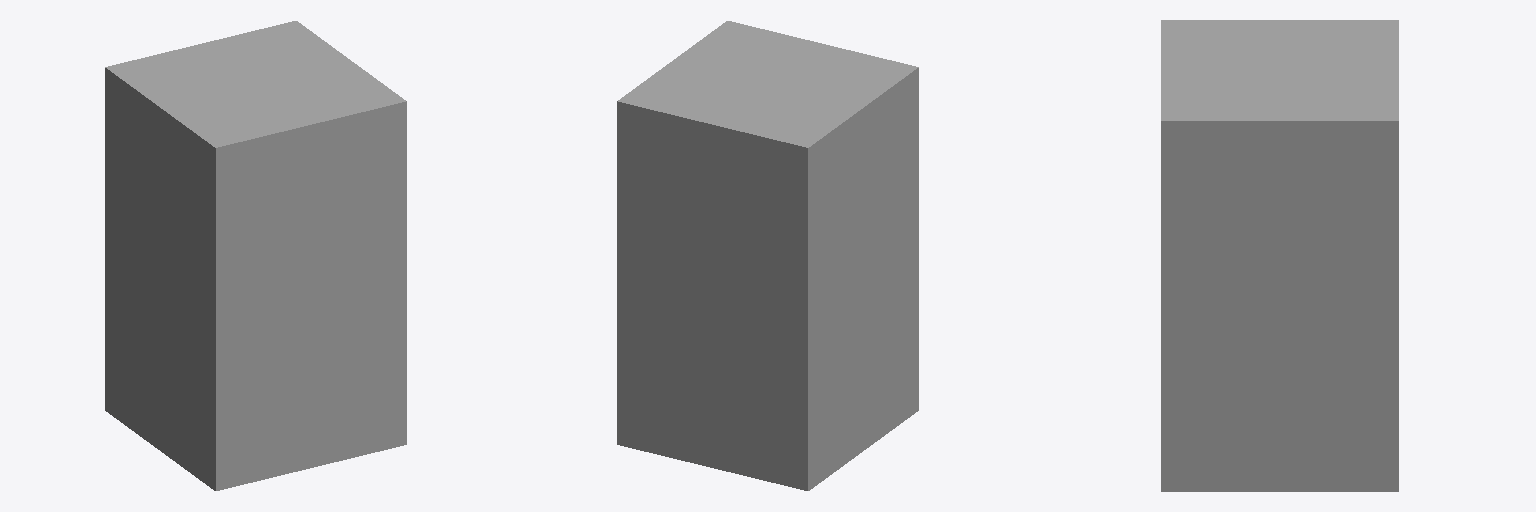
robot.urdf — flask:
<?xml version="1.0"?>
<!-- Generated by make_models.py; extents match cuTAMP's ENTITIES cuboid. -->
<robot name="flask">
  <link name="base_link">
    <inertial>
      <origin xyz="0 0 0"/>
      <mass value="0.3"/>
      <inertia ixx="0.0004825" ixy="0" ixz="0" iyy="0.0004825" iyz="0" izz="0.00024500000000000005"/>
    </inertial>
    <visual>
      <origin xyz="0 0 0"/>
      <geometry><box size="0.07 0.07 0.12"/></geometry>
      <material name="grey"><color rgba="0.7 0.7 0.7 1"/></material>
    </visual>
    <collision>
      <origin xyz="0 0 0"/>
      <geometry><box size="0.07 0.07 0.12"/></geometry>
    </collision>
  </link>
</robot>

--- What the picture shows (computed from the rendered views, not written in the file) ---
3 views of the same robot in one strip: view 1: azimuth 30°, elevation 25°; view 2: azimuth 150°, elevation 25°; view 3: azimuth 270°, elevation 25° (orthographic).
Model flask with 1 links and 0 joints (none), rooted at base_link, posed every joint at zero.
Visible links, largest first — view 1: base_link; view 2: base_link; view 3: base_link.
Link boxes in pixels (<box>): base_link: <box>105,21,406,490</box>; base_link: <box>617,21,918,490</box>; base_link: <box>1161,20,1398,491</box>.
Size in the robot's own frame: 0.07 by 0.07 by 0.12 metres.
Geometry: primitives only (box / cylinder / sphere), no mesh files.
